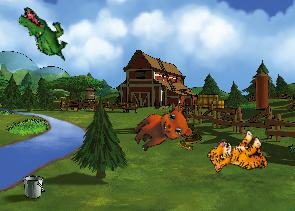bear: (127, 97, 198, 164)
crocodile: (9, 5, 78, 62)
tiger: (204, 123, 273, 189)
